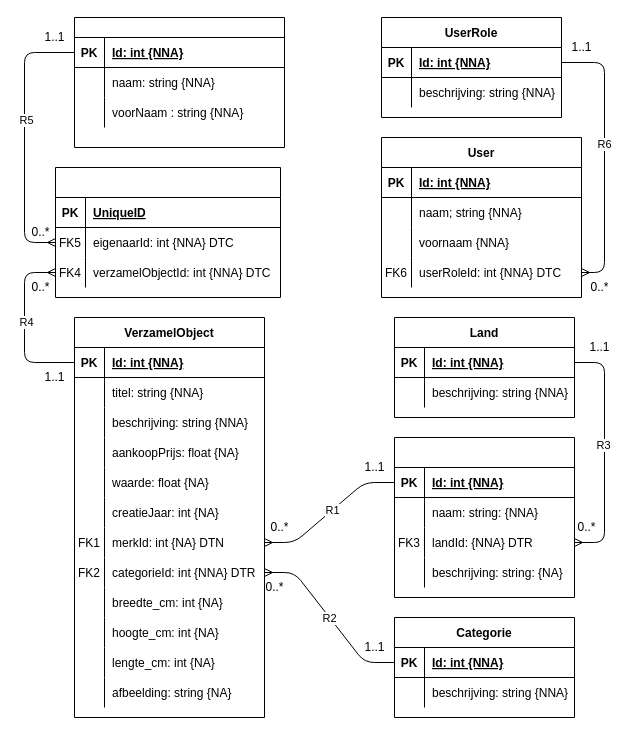
Some shapes in this 637 by 735 pixel diagram are drawn without their labels. Here are the shapes that lost their labels. From the top down, the box of each, then its label:
(74, 16, 284, 148): MedeEigenaar
(54, 166, 280, 298): MedeEigenaarObject
(394, 436, 574, 598): Merk
